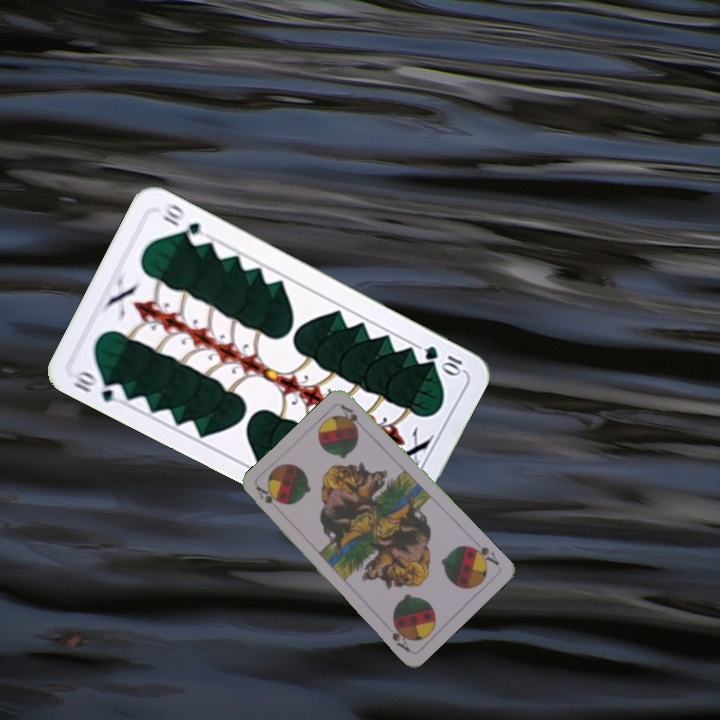G10: (68, 366, 128, 406), (420, 341, 466, 378)
SA: (465, 542, 502, 568), (253, 483, 280, 506)
